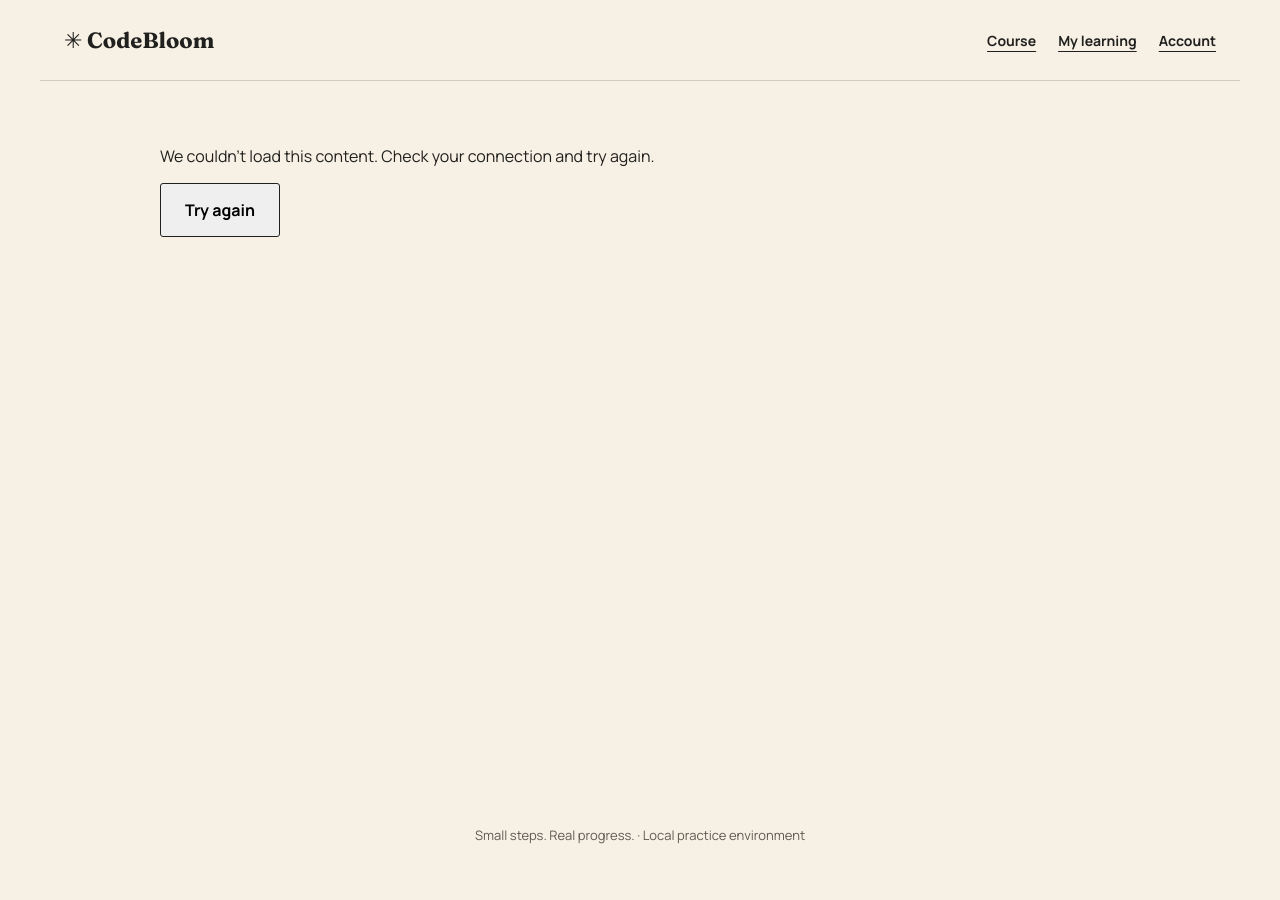
account and lesson routes › shows load errors and permits retry
The width and height of the screenshot is (1280, 900).
Step 1. Click the button "Try again" → coordinates (220, 210), box [160,183,280,237]
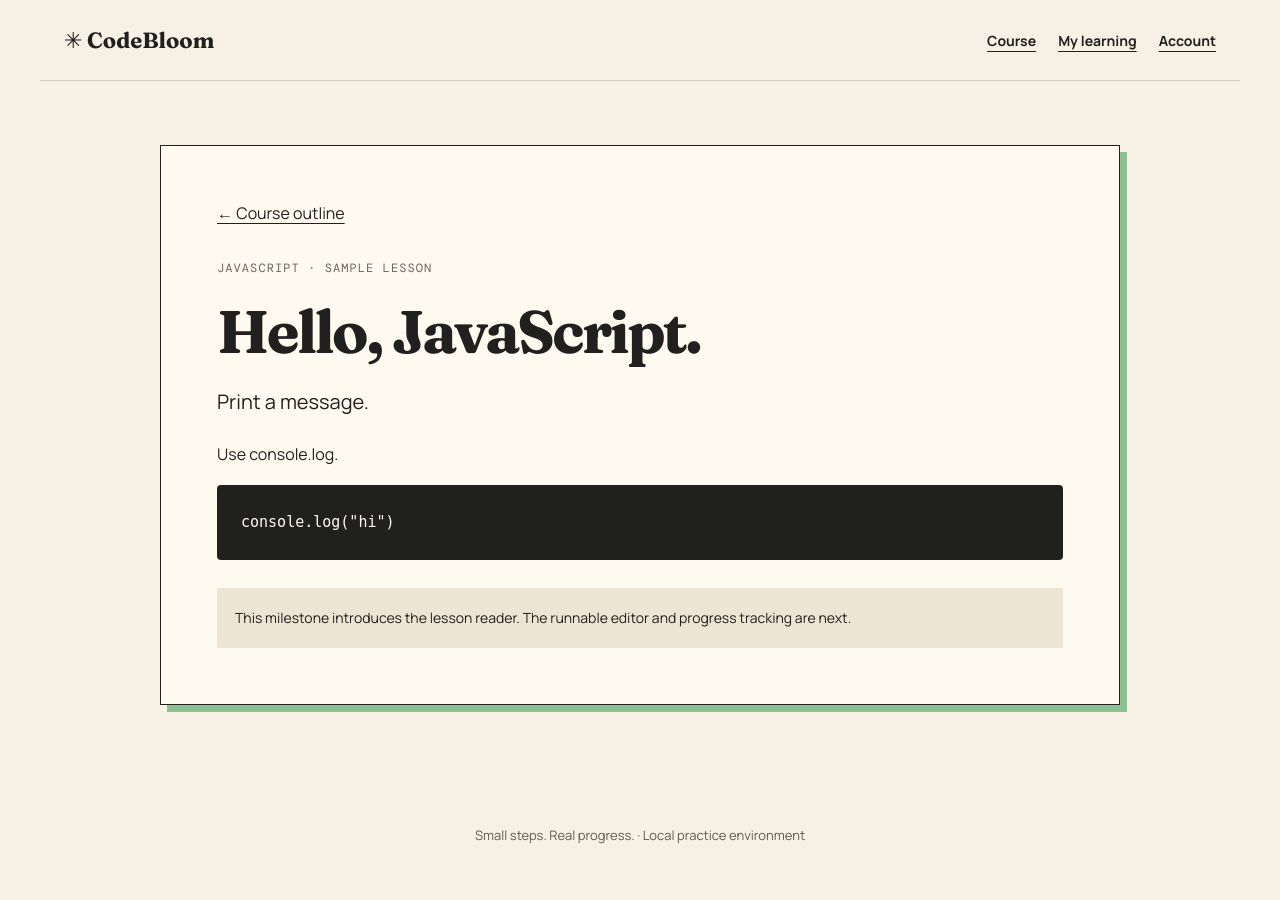
Expected: the heading "Hello, JavaScript." is shown, [217,294,700,368]
